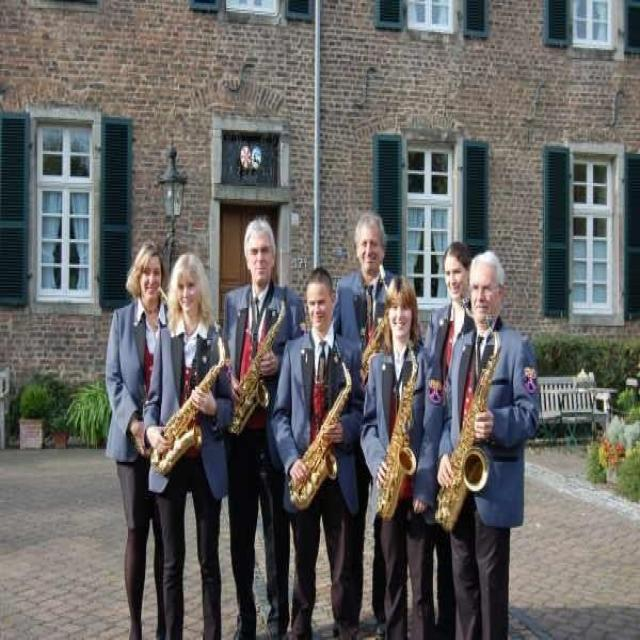saxophone: (435, 313, 504, 534), (150, 321, 228, 476), (288, 337, 354, 511), (372, 340, 425, 522), (228, 296, 288, 438), (356, 264, 396, 382)
